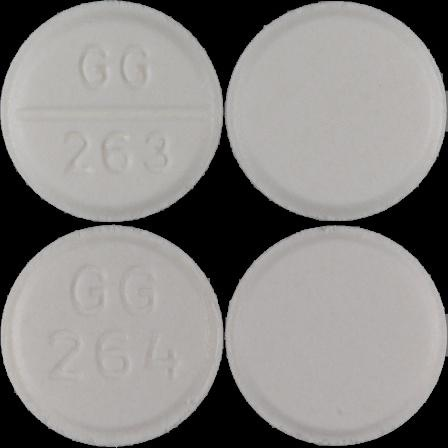0781-1506: (0, 0, 224, 224)
